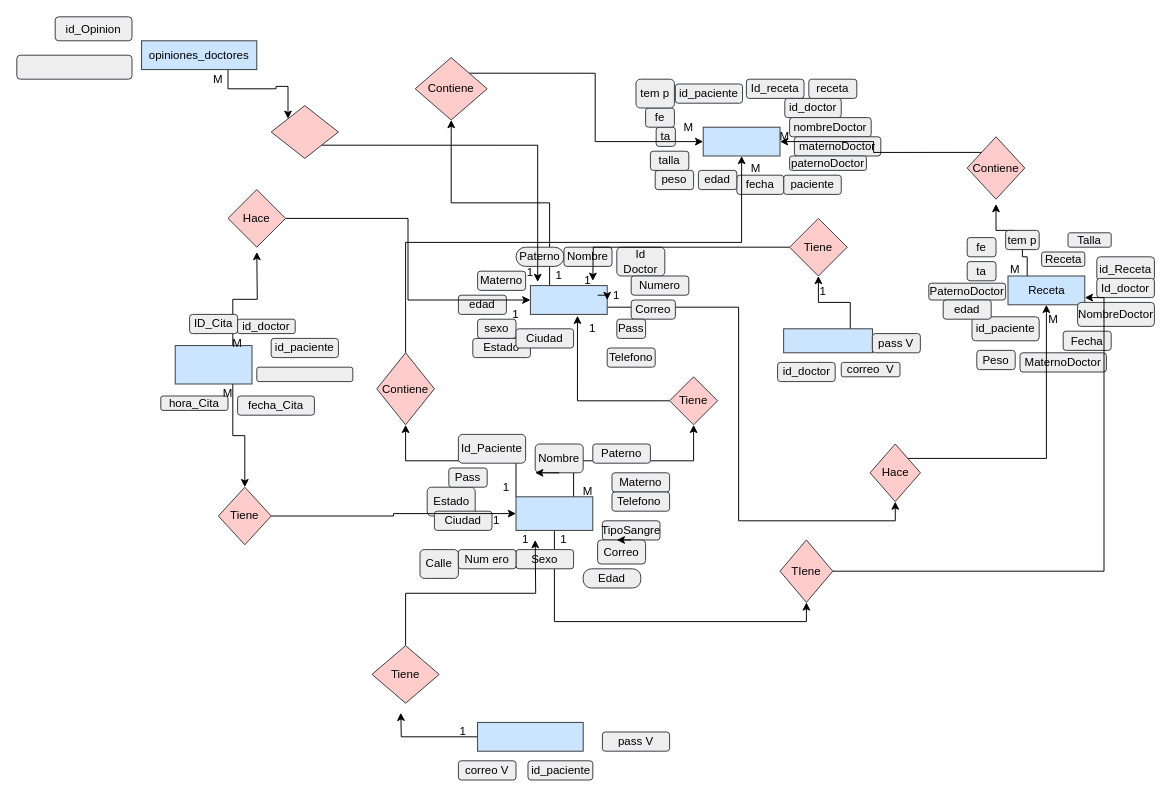
This 1171x797 diagram has some shape labels left out. The centre of each missing label's shape, as x and y in pixels:
"cita_medica" belongs at point 213,364.
"descripcion_opinion" belongs at point 74,66.
"Doctores" belongs at point 568,299.
"Historial" belongs at point 741,141.
"nombre_paciente" belongs at point 304,374.
"Pacientes" belongs at point 554,513.
"Puede" belongs at point 304,131.
"Usuario_doctor" belongs at point 827,340.
"usuario_paciente" belongs at point 530,736.
